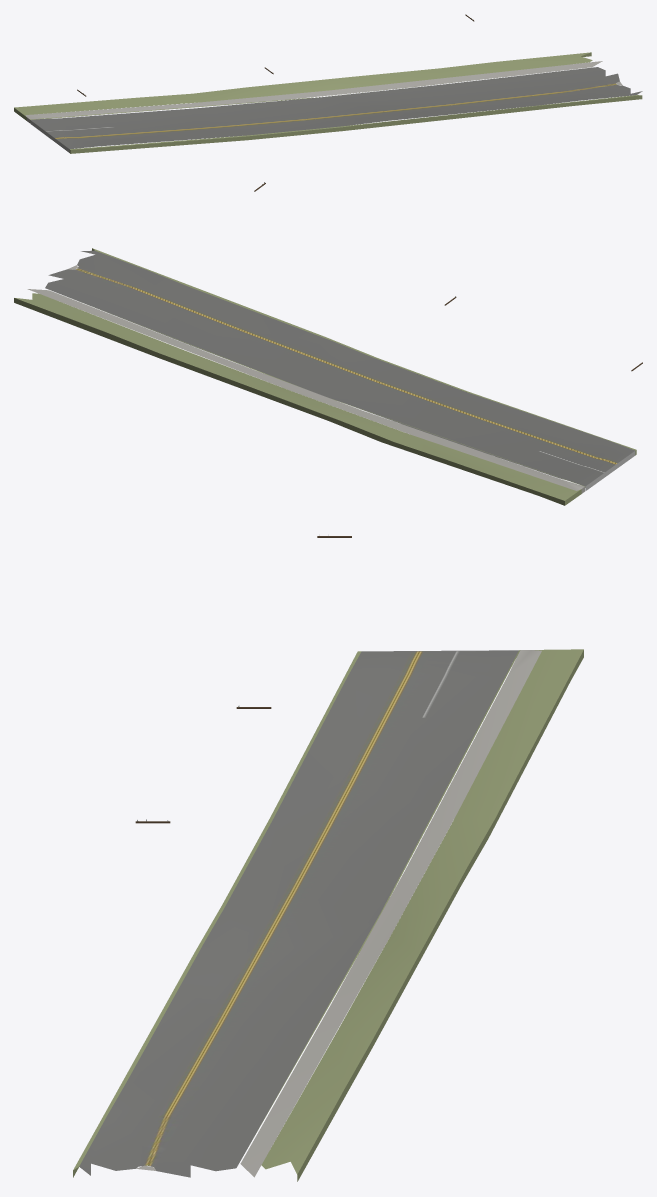
The picture shows the model from 3 angles, top to bottom: view 1: azimuth 30°, elevation 25°; view 2: azimuth 150°, elevation 25°; view 3: azimuth 270°, elevation 25°; orthographic projection. The views are drawn at different scales.
Parts seen in each view (by area): view 1: SW_ground_asphalt_-4_-2_UNVERIFIED, SW_ground_lawn_-4_-2, SW_ground_concrete_-4_-2; view 2: SW_ground_asphalt_-4_-2_UNVERIFIED, SW_ground_lawn_-4_-2, SW_ground_concrete_-4_-2; view 3: SW_ground_asphalt_-4_-2_UNVERIFIED, SW_ground_lawn_-4_-2, SW_ground_concrete_-4_-2.
Part boxes in pixels (x1,y1,x2,y2): SW_ground_asphalt_-4_-2_UNVERIFIED: (30,67,642,152); SW_ground_lawn_-4_-2: (14,52,642,153); SW_ground_concrete_-4_-2: (26,61,622,122); SW_ground_asphalt_-4_-2_UNVERIFIED: (45,250,635,491); SW_ground_lawn_-4_-2: (14,248,636,505); SW_ground_concrete_-4_-2: (27,265,584,493); SW_ground_asphalt_-4_-2_UNVERIFIED: (79,650,518,1177); SW_ground_lawn_-4_-2: (73,649,583,1181); SW_ground_concrete_-4_-2: (135,650,541,1177).
Size of the model in its own units: 81.18 by 16.07 by 35.45.
6 materials, 1 textured.
